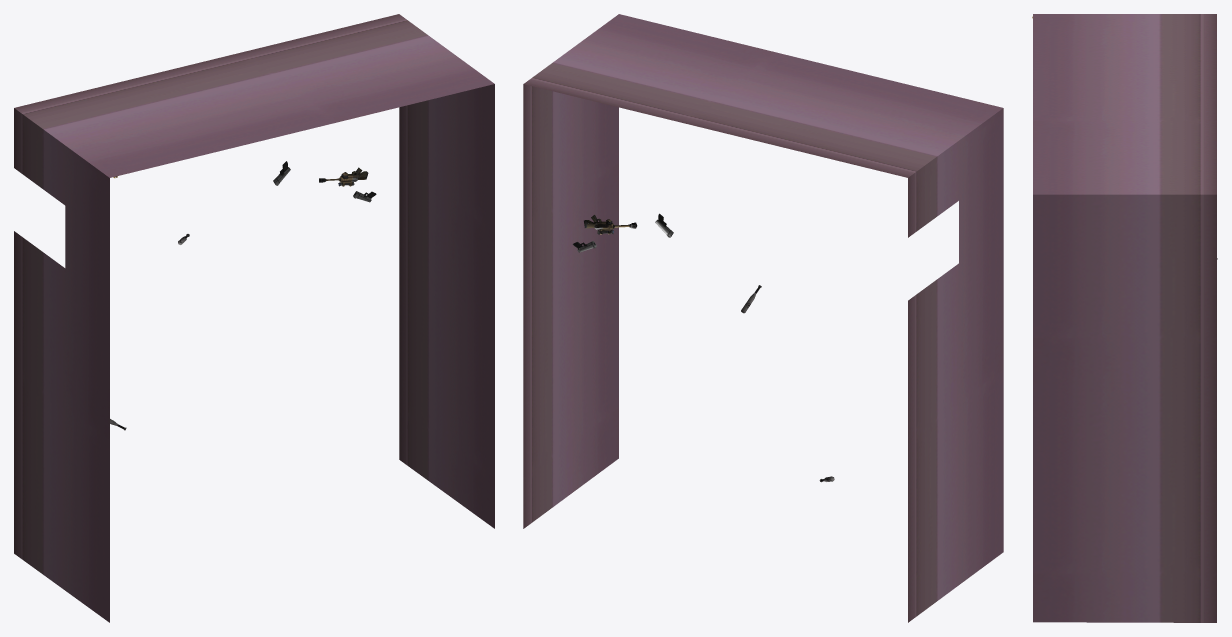
Rendered from Refuge_cddea96f__Refuge_diffuse_05_812da4e1_c1f257.obj.
3 renders of one model, left to right at view 1: azimuth 30°, elevation 25°; view 2: azimuth 150°, elevation 25°; view 3: azimuth 270°, elevation 25°, orthographic. The views are drawn at different scales.
Bounding box in the file's own units: 11.32 × 12.52 × 4.9.
Materials: 1 (1 with a texture image).
